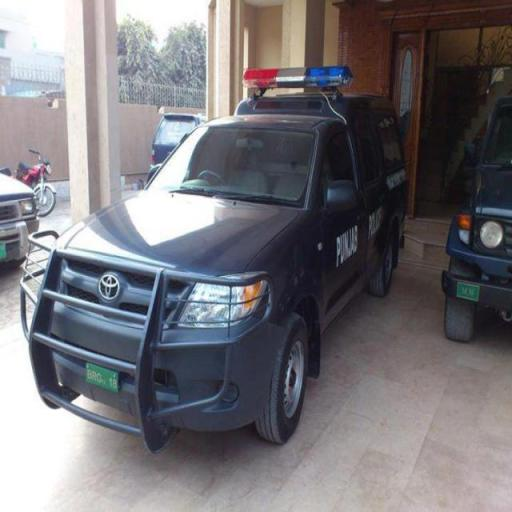Ambulance: (22, 60, 404, 474)
